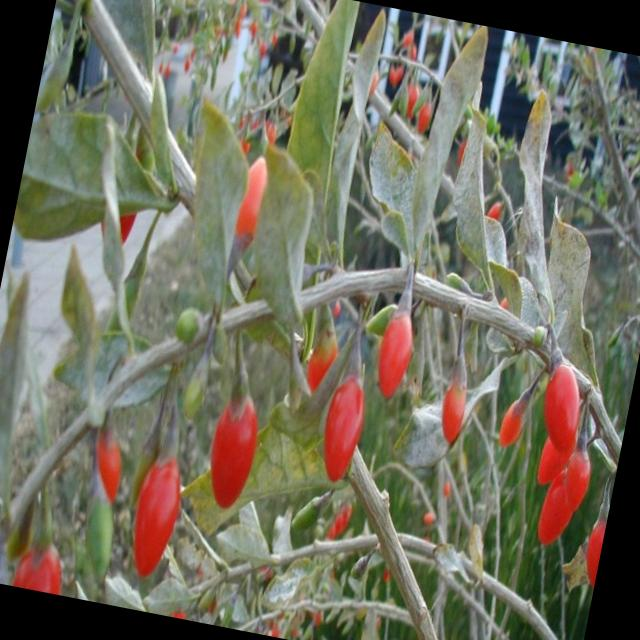Poisonous-Deadly_Nightshade: (135, 0, 518, 305), (280, 292, 640, 612), (17, 268, 318, 629)
